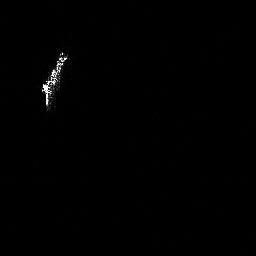ship: (38, 49, 71, 112)
